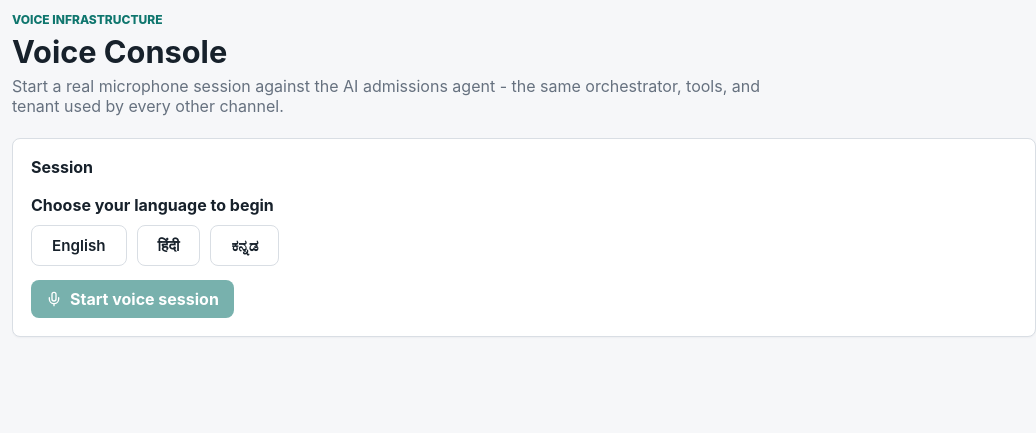
Scenario: VoiceConsole - microphone denial › shows a clear message and lets the user retry when microphone access is denied
Click the radio button labelled "English" at [79, 246], box 31,225 -> 127,266
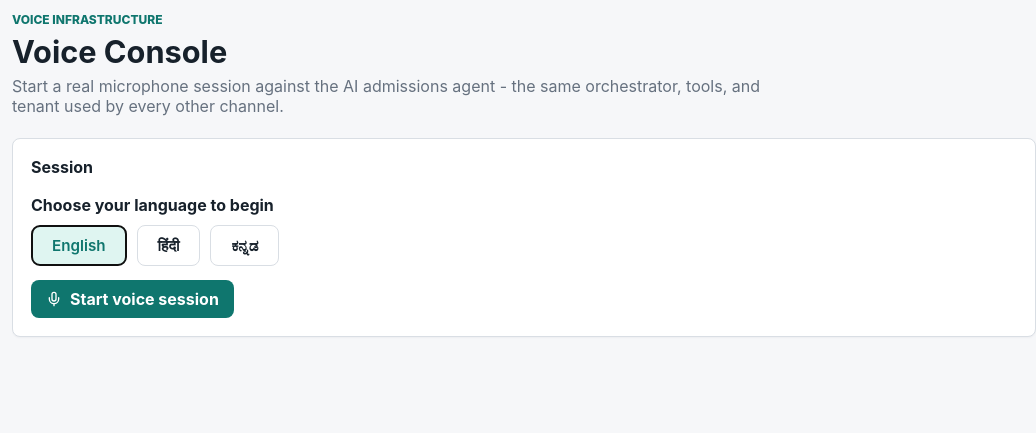
Result: the button "Start voice session" is enabled
Click the button "Start voice session" at [132, 299], box 31,280 -> 234,318
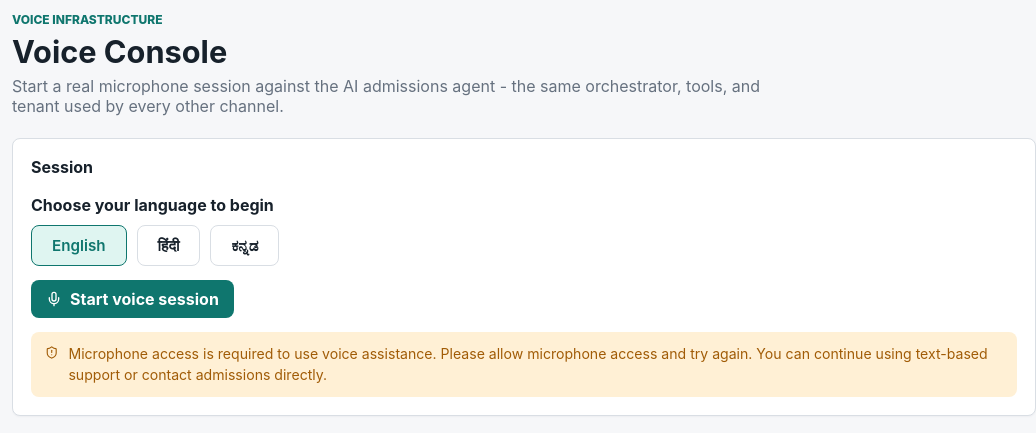
Result: the button "Start voice session" is enabled at 31,280 -> 234,318
Result: the text "Microphone access is required" is shown at 68,345 -> 752,362
